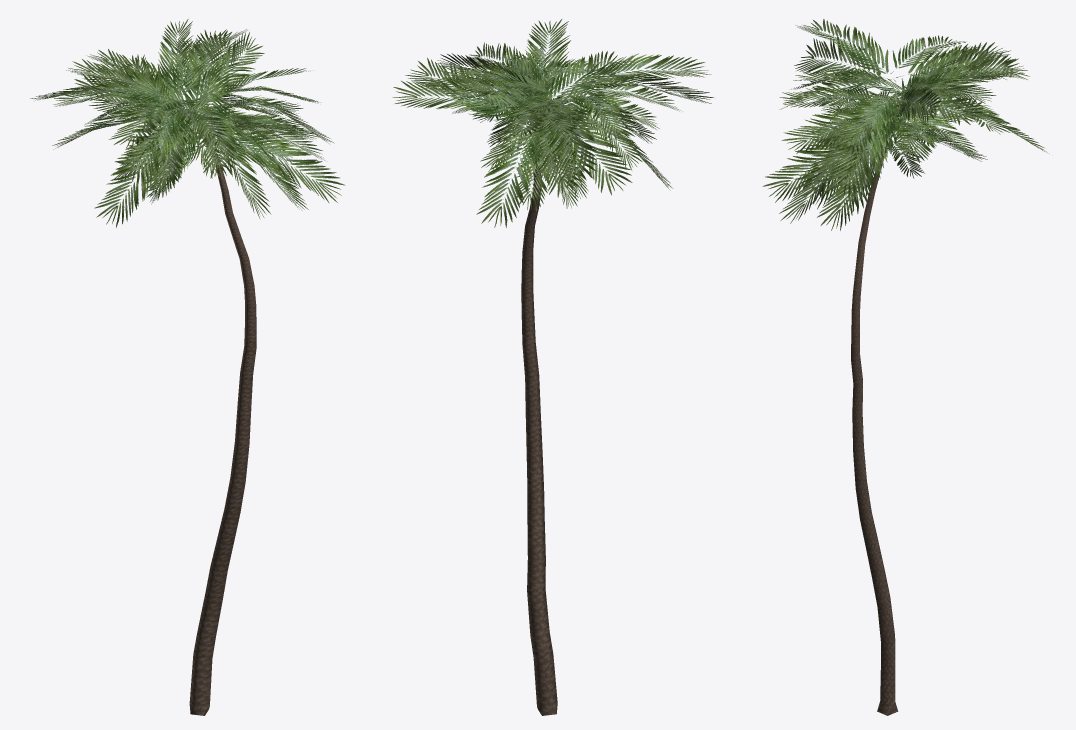
Rendered from palm2.fbx.
3 renders of one model, left to right at view 1: azimuth 30°, elevation 25°; view 2: azimuth 150°, elevation 25°; view 3: azimuth 270°, elevation 25°, orthographic. The views are drawn at different scales.
Visible parts, largest first — view 1: list.067, tree; view 2: list.067, tree; view 3: list.067, tree.
Part boxes in pixels (x1,y1,x2,y2): list.067: (30,19,345,227); tree: (187,109,256,715); list.067: (392,19,713,227); tree: (521,105,557,715); list.067: (762,19,1047,230); tree: (851,109,899,715).
Size of the model in its own units: 1015 by 2397 by 1019.
